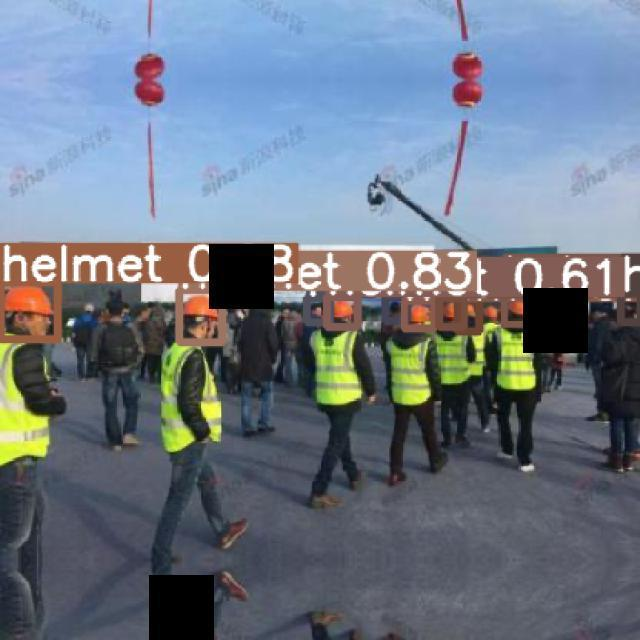helmet: (3, 285, 53, 316), (182, 295, 218, 319)
